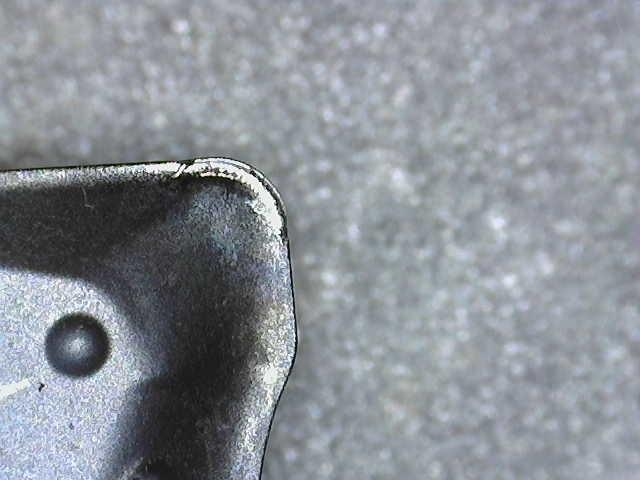normal: (245, 241, 296, 478), (0, 162, 206, 194)
wear: (194, 156, 284, 247)
